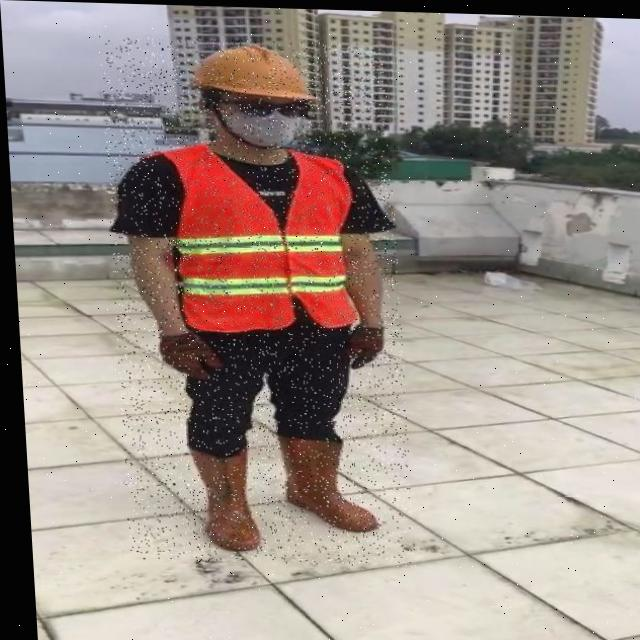Gloves: (154, 329, 222, 380), (343, 320, 382, 367)
Safety-Boot: (273, 431, 374, 531), (185, 441, 256, 550)
Safety-Vest: (149, 141, 359, 335)
